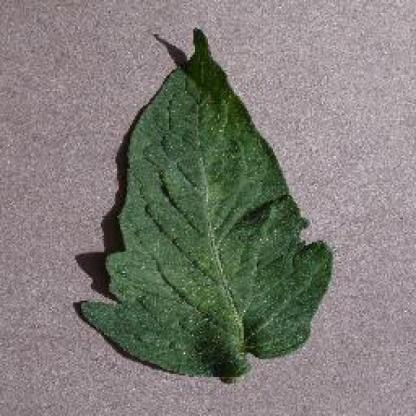Tomato_Spider_Mites: (77, 29, 333, 376)
